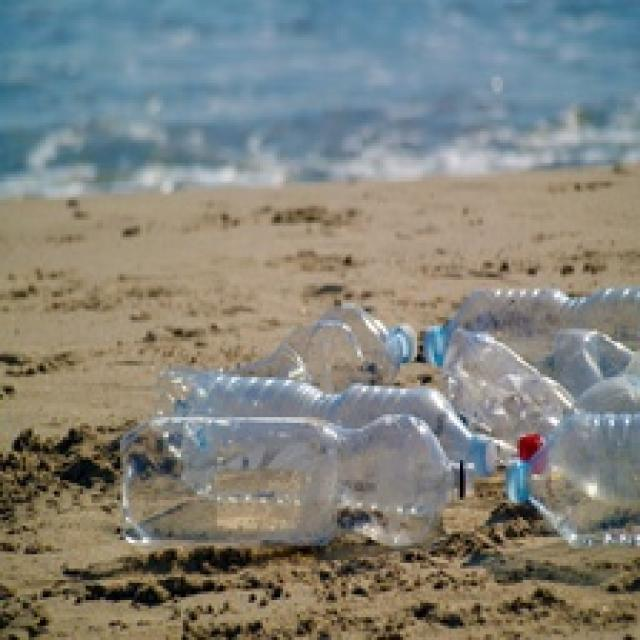bottle: (117, 283, 640, 574), (137, 277, 142, 280)
cap: (516, 433, 543, 462)
